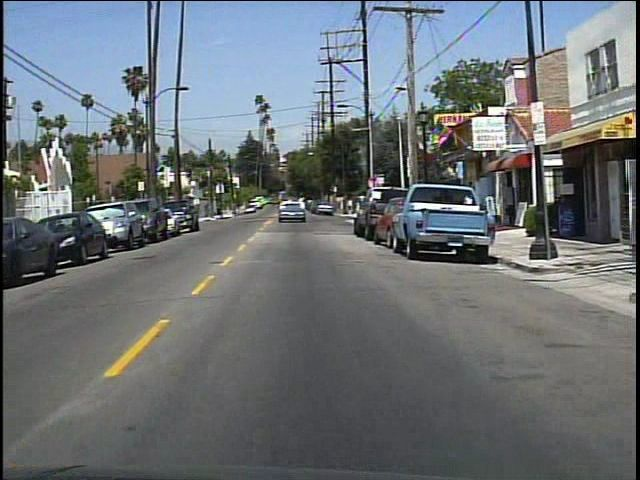person: (462, 185, 484, 233)
